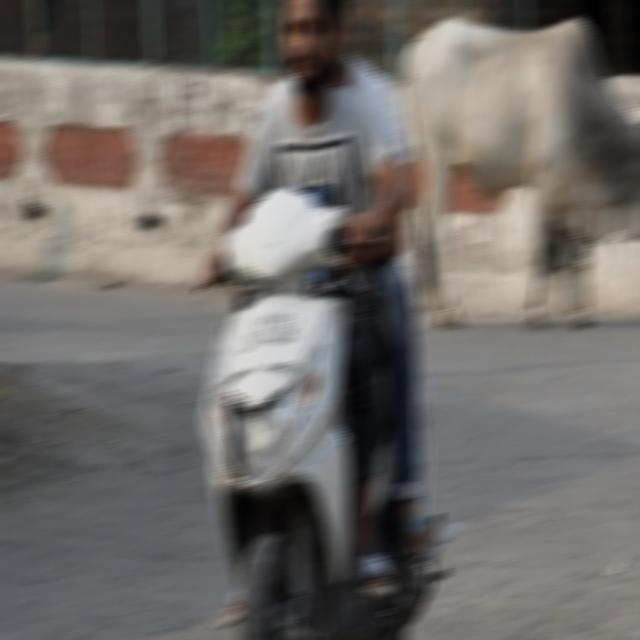Without Helmet: (271, 0, 338, 94)
